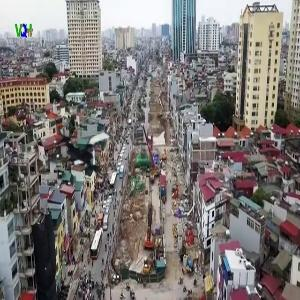drone: (56, 117, 125, 186)
